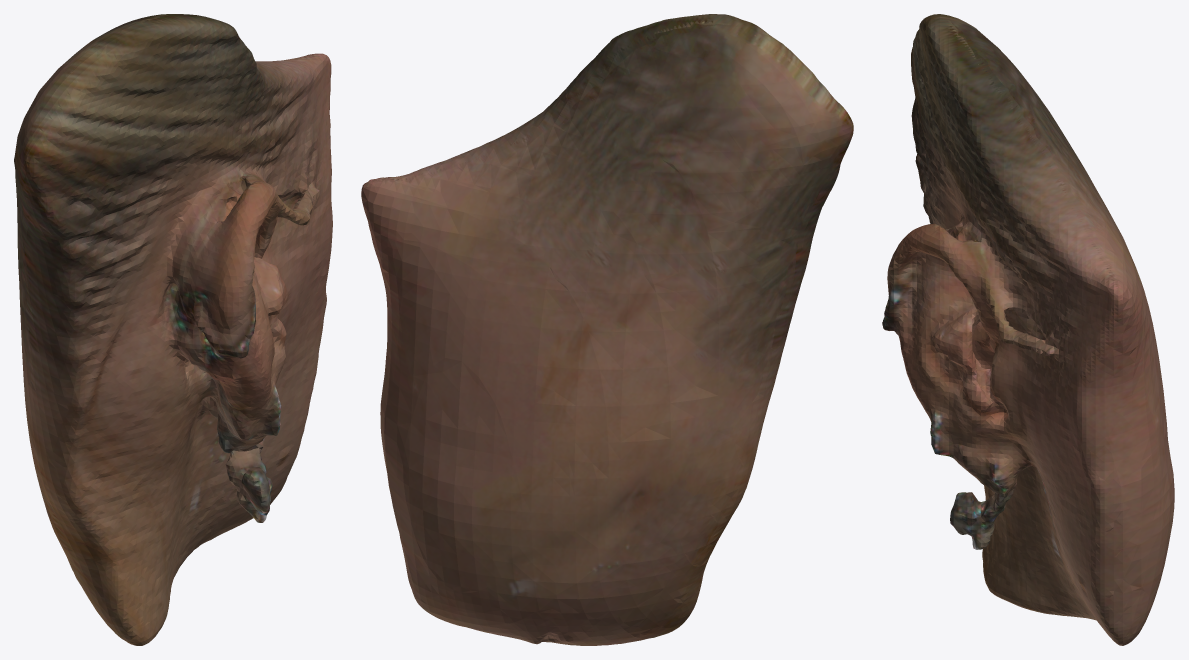
The model's file is jobbful Sharp Fusion 1.obj.
3 renders of one model, left to right at view 1: azimuth 30°, elevation 25°; view 2: azimuth 150°, elevation 25°; view 3: azimuth 270°, elevation 25°, orthographic. The views are drawn at different scales.
Size of the model in its own units: 90.96 by 135 by 63.8.
1 material, 1 textured.
